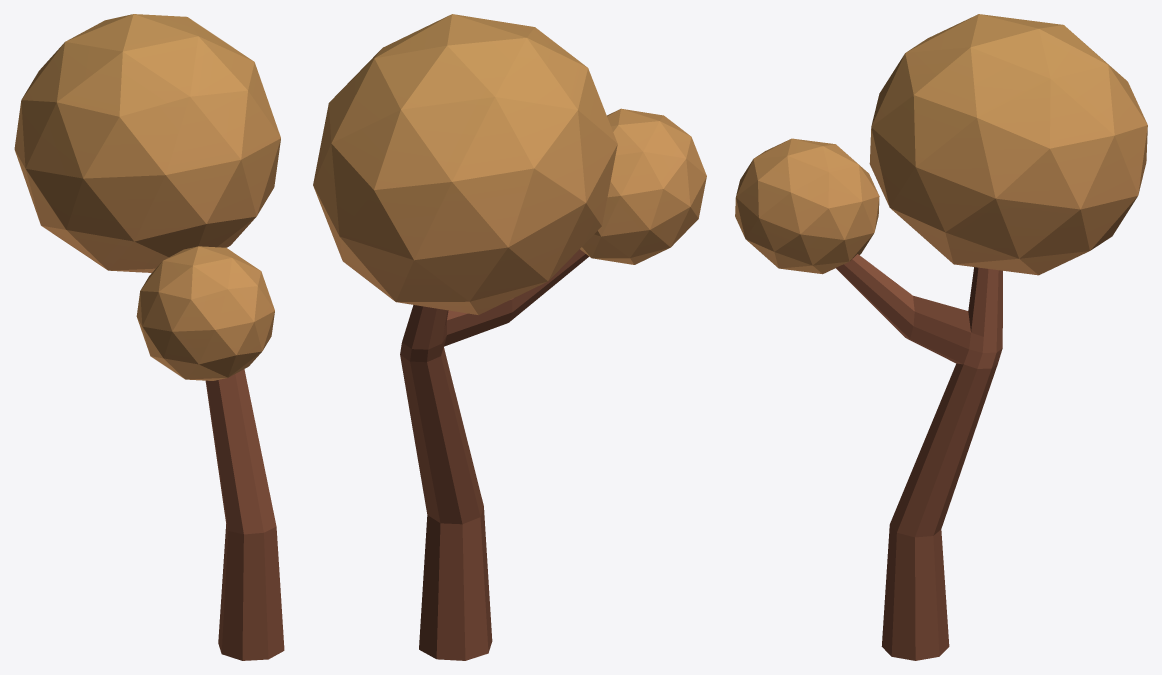
File: Tree_02_gradient_yellow_vc.fbx
3 renders of one model, left to right at view 1: azimuth 30°, elevation 25°; view 2: azimuth 150°, elevation 25°; view 3: azimuth 270°, elevation 25°, orthographic. The views are drawn at different scales.
Visible parts, largest first — view 1: Tree_02_gradient_yellow_vc; view 2: Tree_02_gradient_yellow_vc; view 3: Tree_02_gradient_yellow_vc.
Part boxes in pixels (x1=…): Tree_02_gradient_yellow_vc: x1=14, y1=14, x2=284, y2=660; Tree_02_gradient_yellow_vc: x1=313, y1=14, x2=706, y2=660; Tree_02_gradient_yellow_vc: x1=735, y1=14, x2=1147, y2=660.
Bounding box in the file's own units: 71.42 × 177 × 112.
